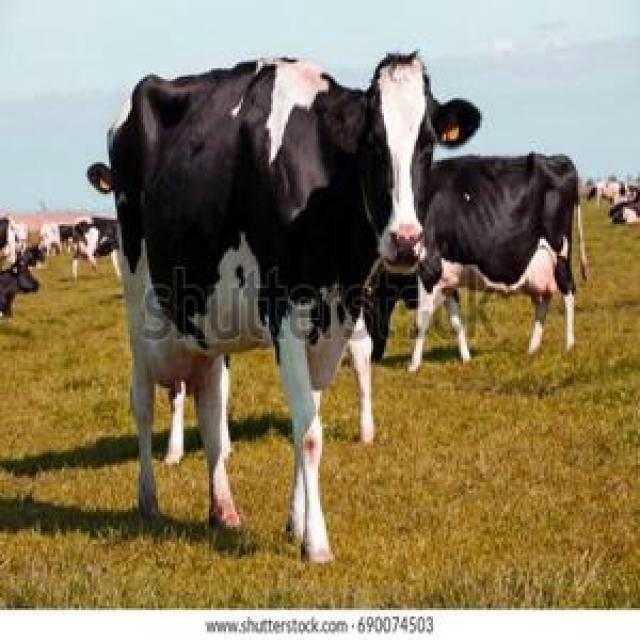cow: (109, 52, 480, 562), (409, 156, 579, 371)
